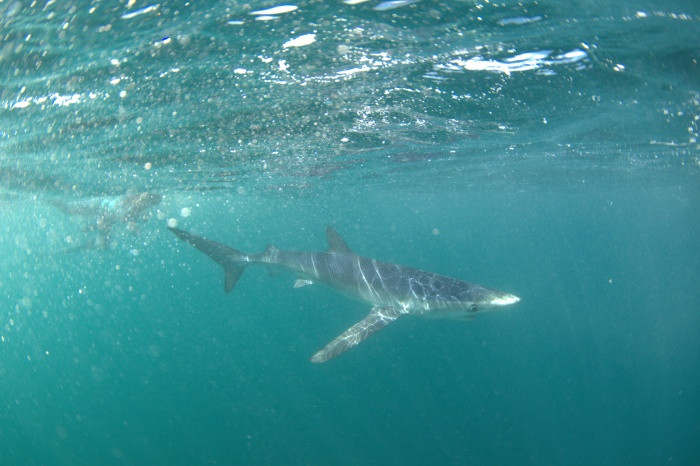Azul: (135, 204, 534, 373)
